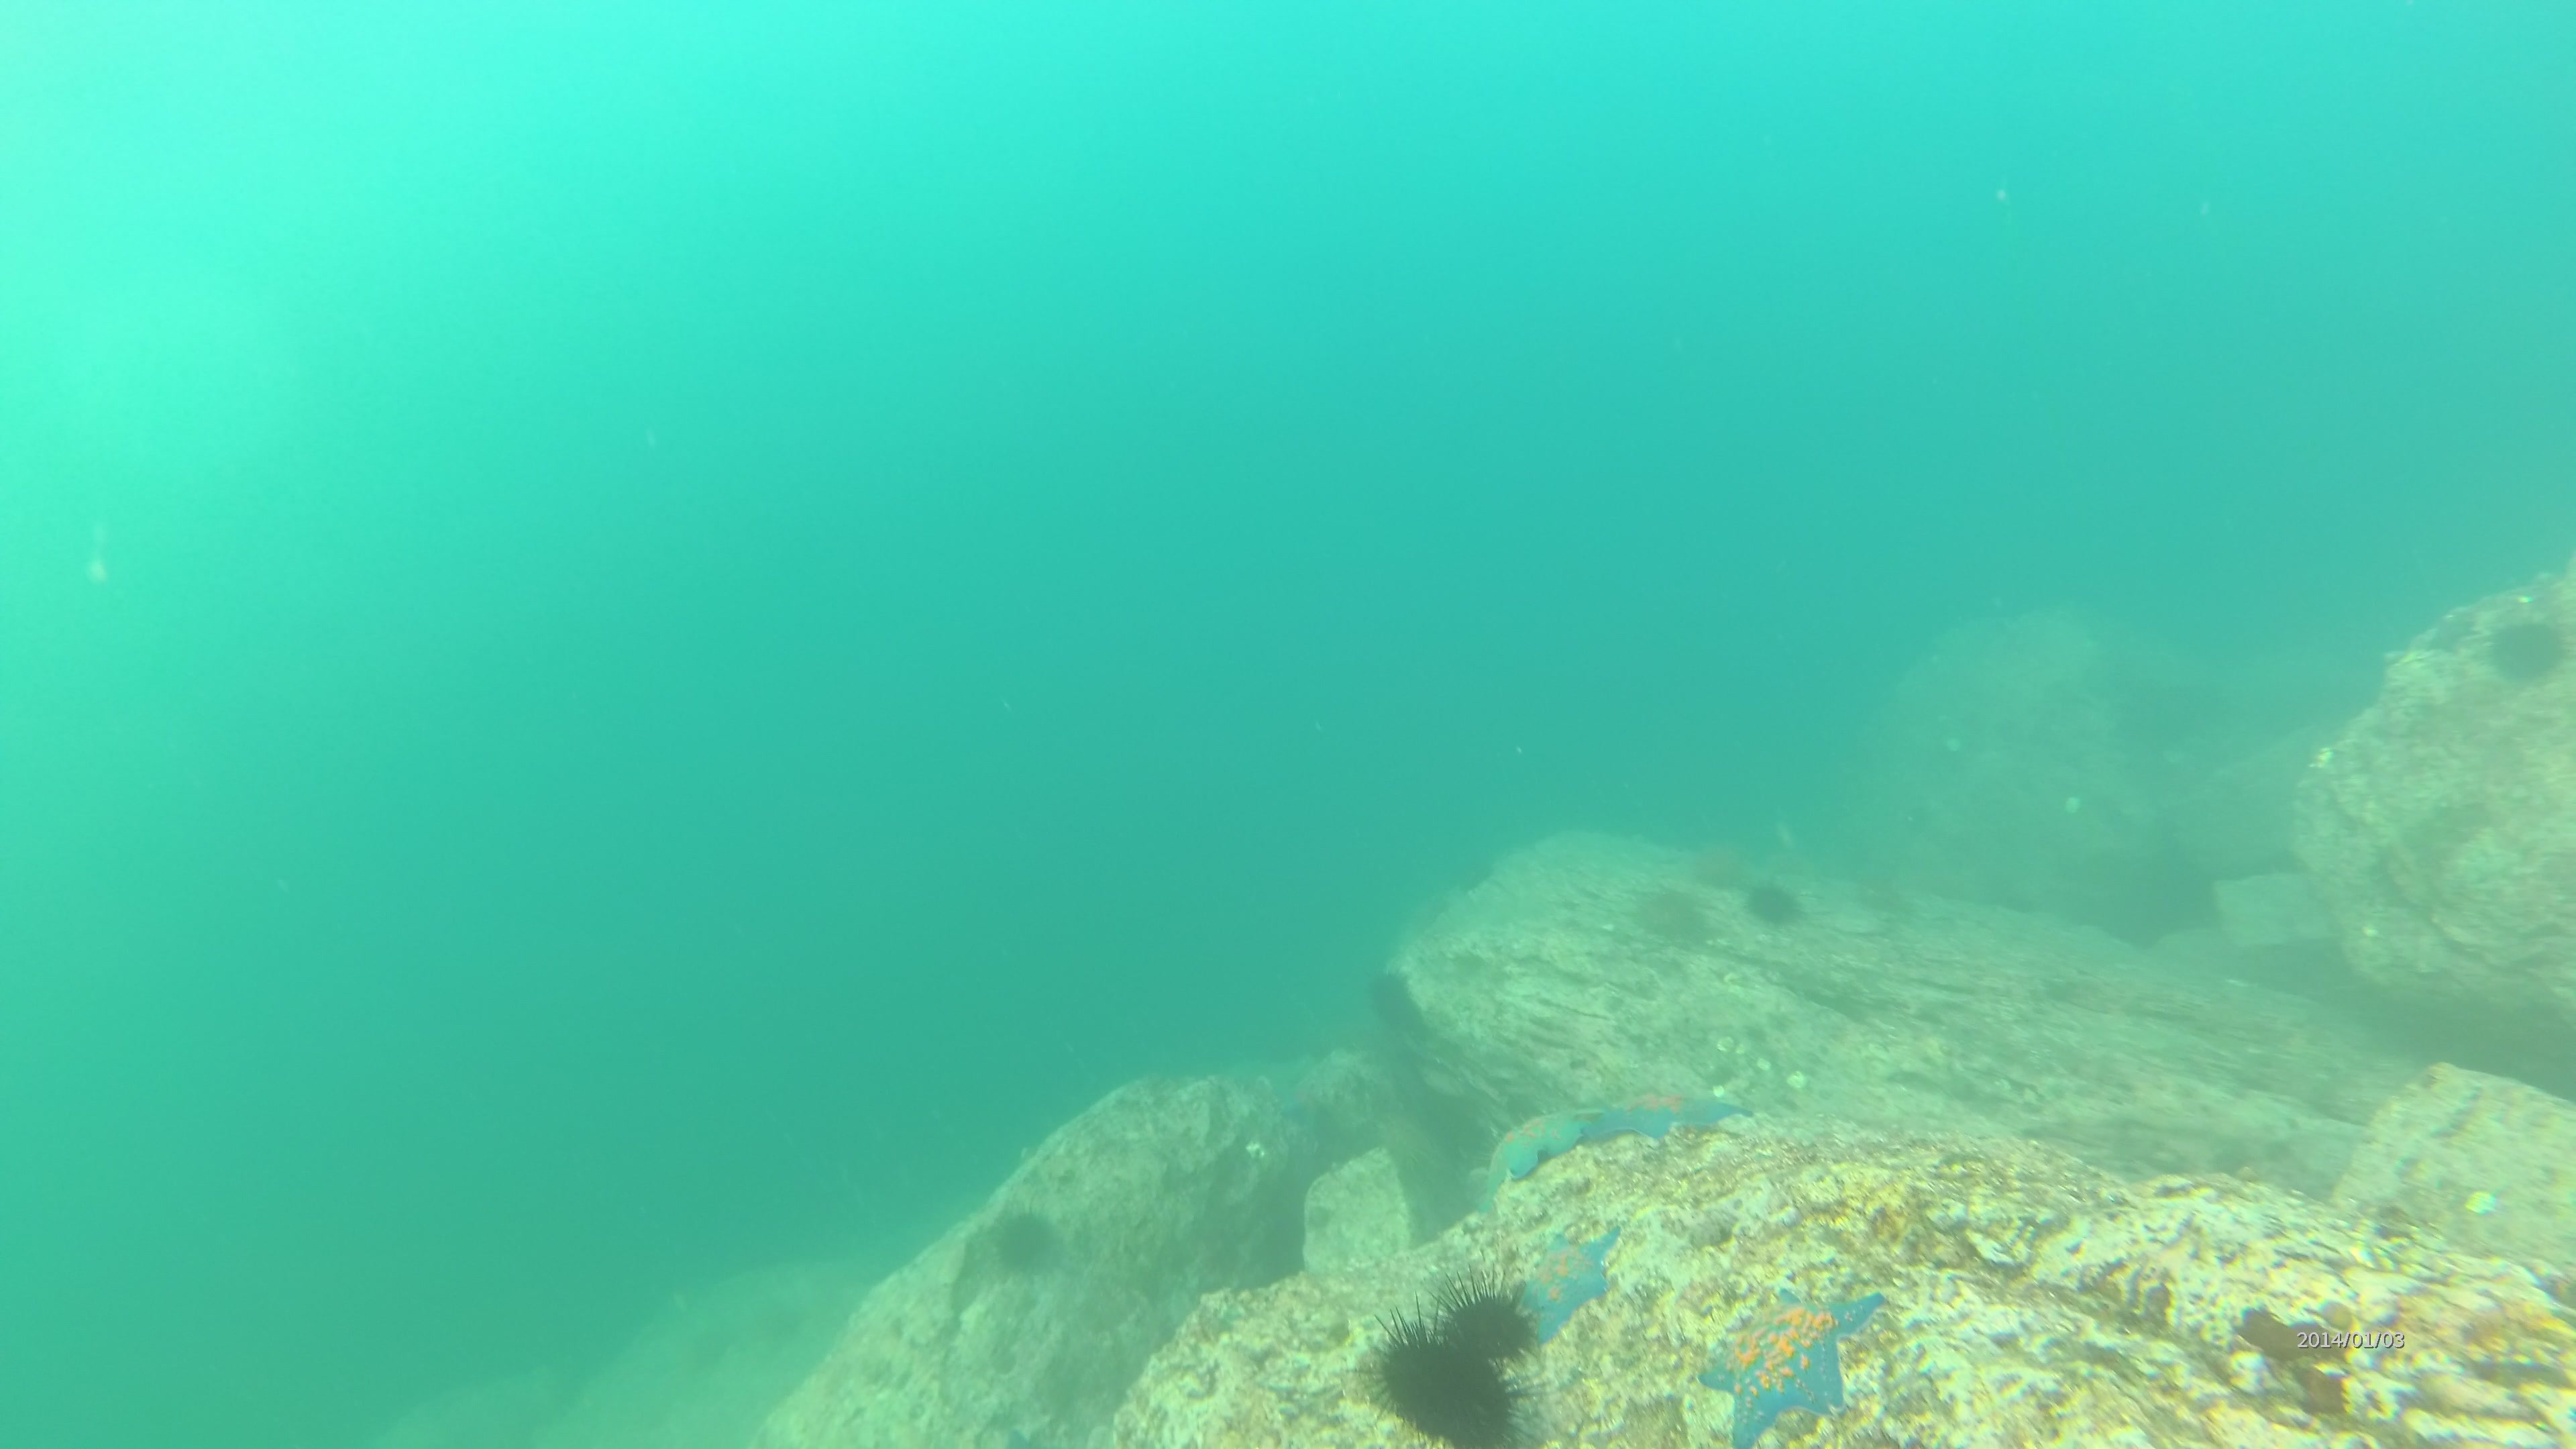echinus: (1368, 1300, 1523, 1449), (1426, 1274, 1539, 1361), (1629, 878, 1713, 966), (2484, 617, 2565, 690), (989, 1208, 1063, 1284), (1748, 878, 1812, 941), (1686, 830, 1748, 893), (1444, 837, 1502, 897)
starfish: (1688, 1277, 1890, 1449), (1470, 1085, 1596, 1200), (1504, 1230, 1626, 1341), (1596, 1083, 1762, 1152)
